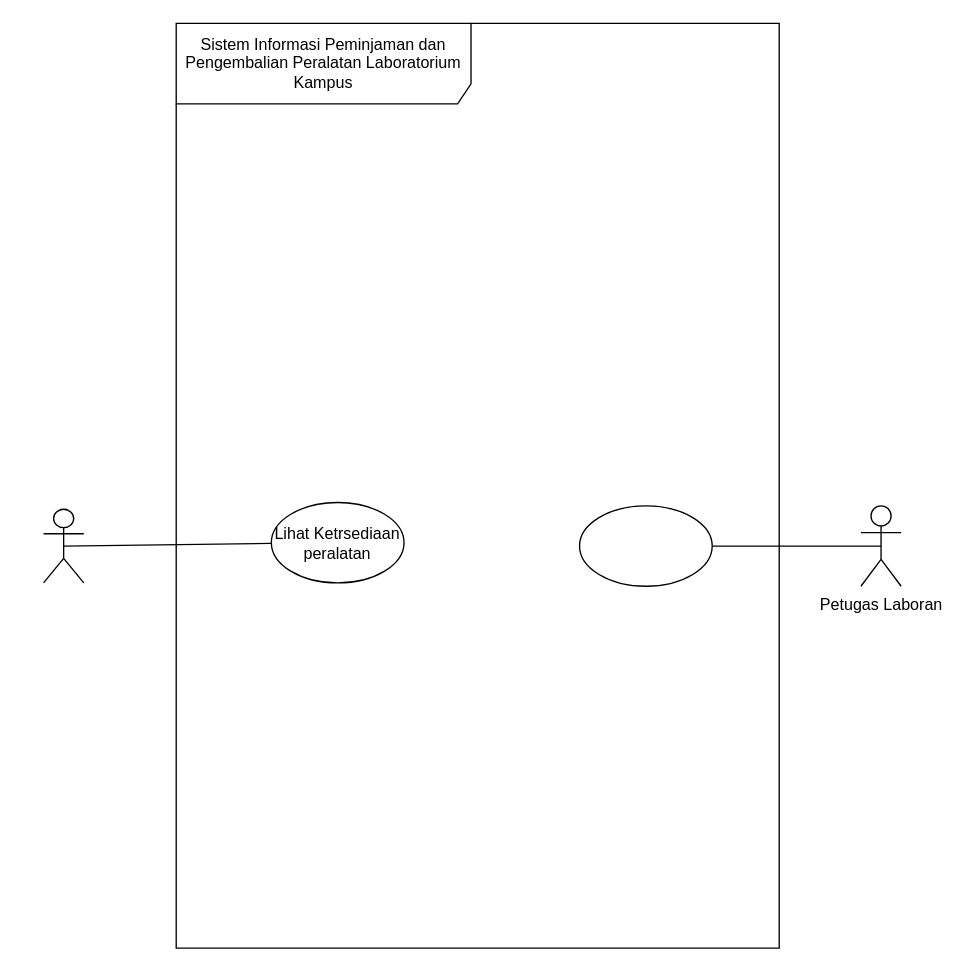
This 965x972 diagram has some shape labels left out. Here are the shapes that lost their labels. From the top down, the centre of each, then its label:
At (x=63, y=545): "Mahasiswa".
At (x=645, y=545): "Kelola data Peralatan".
